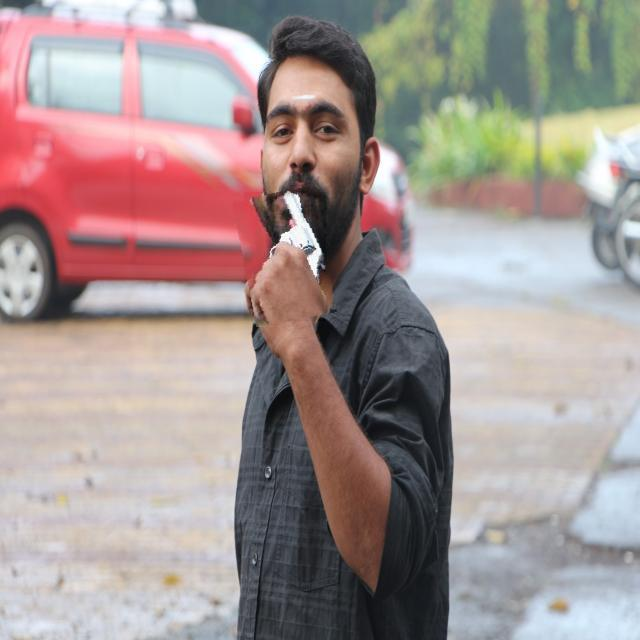handgun: (238, 188, 332, 324)
